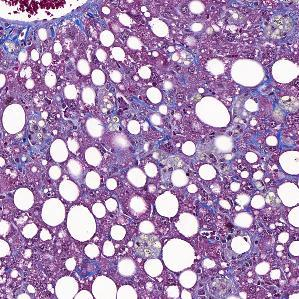fibrosis: (150, 118, 216, 168), (240, 125, 287, 156)
